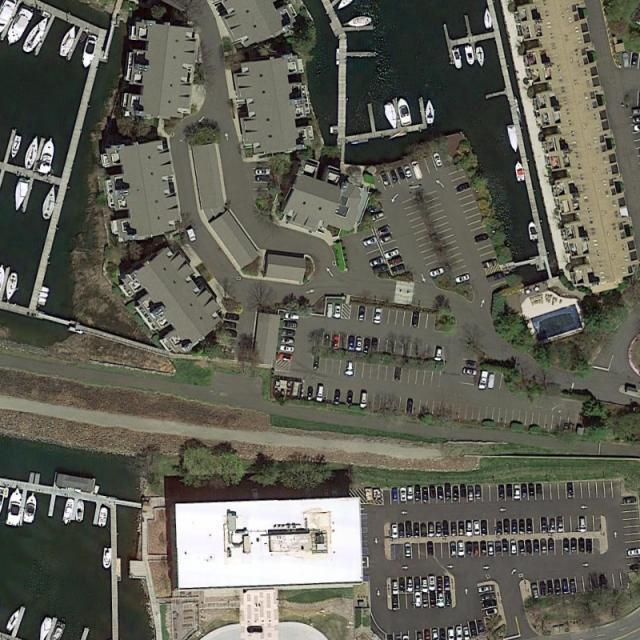vehicle: (477, 370, 490, 391), (390, 262, 408, 276), (368, 254, 384, 269), (410, 309, 422, 328), (384, 247, 400, 261), (379, 171, 392, 188), (467, 620, 479, 638), (359, 390, 370, 409), (373, 306, 384, 325), (362, 235, 378, 248), (462, 365, 478, 378), (372, 263, 389, 275), (255, 166, 272, 178), (369, 211, 386, 223), (433, 346, 446, 361), (186, 227, 198, 243), (454, 273, 471, 284), (314, 385, 325, 402), (389, 255, 404, 267), (530, 582, 540, 600), (378, 234, 394, 245), (480, 599, 496, 610), (246, 625, 265, 634), (405, 522, 414, 541), (430, 266, 444, 278), (402, 165, 414, 179), (434, 152, 445, 167), (513, 484, 522, 502), (474, 484, 483, 502), (546, 578, 555, 596), (540, 580, 549, 598), (285, 312, 301, 322), (333, 303, 343, 319), (357, 306, 367, 322), (346, 390, 356, 406), (393, 366, 403, 382), (390, 524, 400, 540), (448, 543, 458, 559), (568, 578, 578, 594), (427, 575, 437, 591), (396, 168, 407, 182), (626, 547, 640, 558), (280, 329, 297, 338), (333, 334, 342, 351), (333, 388, 342, 405), (540, 516, 549, 533), (412, 521, 421, 538), (566, 483, 575, 500), (540, 538, 549, 555), (444, 590, 453, 607), (414, 592, 423, 609), (418, 522, 428, 537), (474, 233, 490, 242), (406, 398, 415, 414), (599, 572, 608, 588), (428, 522, 437, 538), (498, 484, 506, 502), (436, 486, 445, 502), (562, 538, 570, 556), (561, 578, 570, 594), (554, 578, 563, 594), (377, 225, 391, 235), (390, 169, 400, 183), (436, 592, 446, 606), (226, 312, 240, 322), (306, 384, 314, 401), (460, 483, 468, 500), (422, 486, 430, 503), (450, 520, 458, 537), (586, 538, 594, 555), (578, 538, 586, 555), (570, 538, 578, 555), (398, 577, 406, 594), (429, 592, 437, 609), (631, 54, 640, 69), (482, 259, 497, 268), (534, 483, 543, 498), (413, 486, 422, 501), (465, 542, 474, 557), (367, 203, 382, 212), (522, 483, 529, 502), (455, 542, 465, 555), (485, 607, 498, 617), (391, 597, 401, 610), (442, 577, 452, 590), (323, 334, 331, 350), (346, 361, 354, 377), (444, 484, 452, 500), (426, 542, 434, 558), (474, 519, 482, 535), (518, 539, 526, 555), (391, 486, 399, 502), (421, 577, 429, 593), (406, 578, 414, 594), (549, 518, 558, 532), (398, 522, 405, 540), (506, 483, 513, 501), (400, 486, 407, 504), (279, 346, 294, 354), (526, 518, 534, 533), (442, 521, 450, 536), (404, 543, 412, 558), (548, 539, 556, 554), (466, 521, 474, 536), (458, 520, 466, 535), (510, 541, 518, 556), (495, 542, 503, 557), (406, 486, 414, 501), (479, 594, 494, 602), (430, 628, 440, 640), (422, 593, 430, 608), (436, 577, 444, 592), (413, 577, 421, 592), (223, 321, 238, 329), (372, 338, 379, 355), (504, 518, 511, 535), (477, 586, 494, 593), (458, 182, 471, 191), (624, 496, 638, 504), (282, 322, 298, 329), (279, 338, 295, 345), (348, 337, 356, 351), (364, 338, 371, 354), (467, 486, 474, 502), (453, 486, 460, 502), (429, 484, 436, 500), (511, 518, 518, 534), (496, 521, 504, 535), (256, 174, 270, 182), (477, 619, 485, 633), (446, 628, 455, 640), (391, 582, 400, 594), (558, 516, 565, 531), (435, 522, 442, 537), (481, 519, 488, 534), (534, 540, 541, 555), (526, 539, 533, 554), (313, 354, 319, 371), (630, 563, 640, 573), (579, 517, 586, 531), (528, 483, 535, 497), (480, 542, 487, 556), (473, 542, 480, 556), (463, 626, 470, 640), (455, 626, 462, 640), (520, 518, 526, 534), (502, 543, 510, 555), (438, 628, 446, 640), (488, 542, 495, 555), (423, 629, 430, 640), (415, 631, 423, 640), (357, 338, 362, 351), (633, 116, 640, 123), (402, 634, 410, 640), (634, 124, 640, 131), (386, 634, 393, 640), (638, 92, 640, 106), (396, 636, 401, 640)
